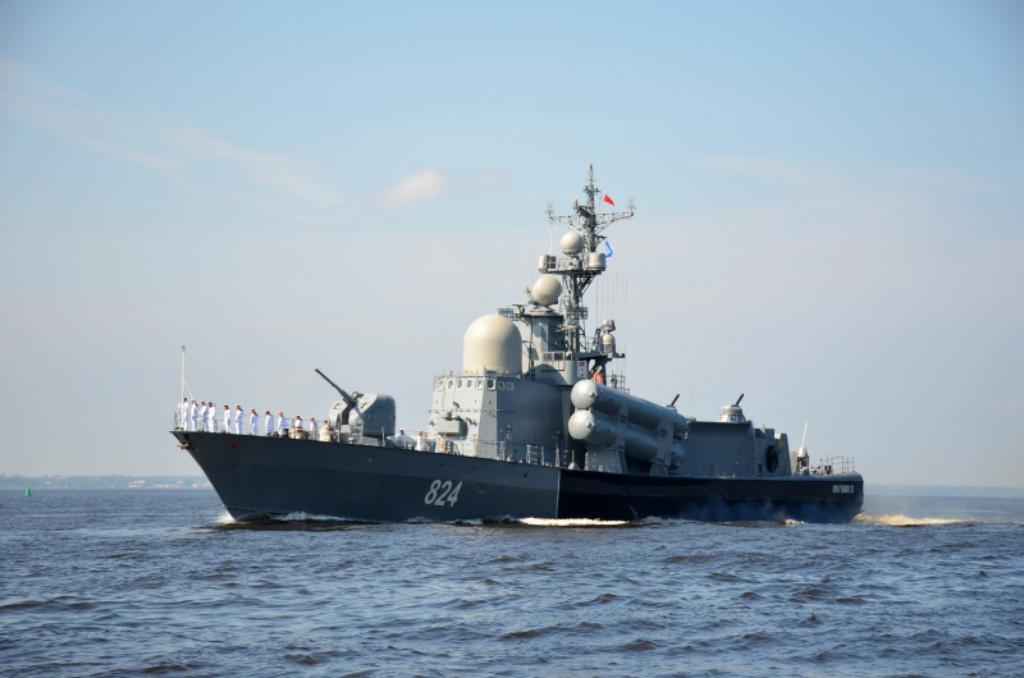Warship: (172, 152, 868, 532)
